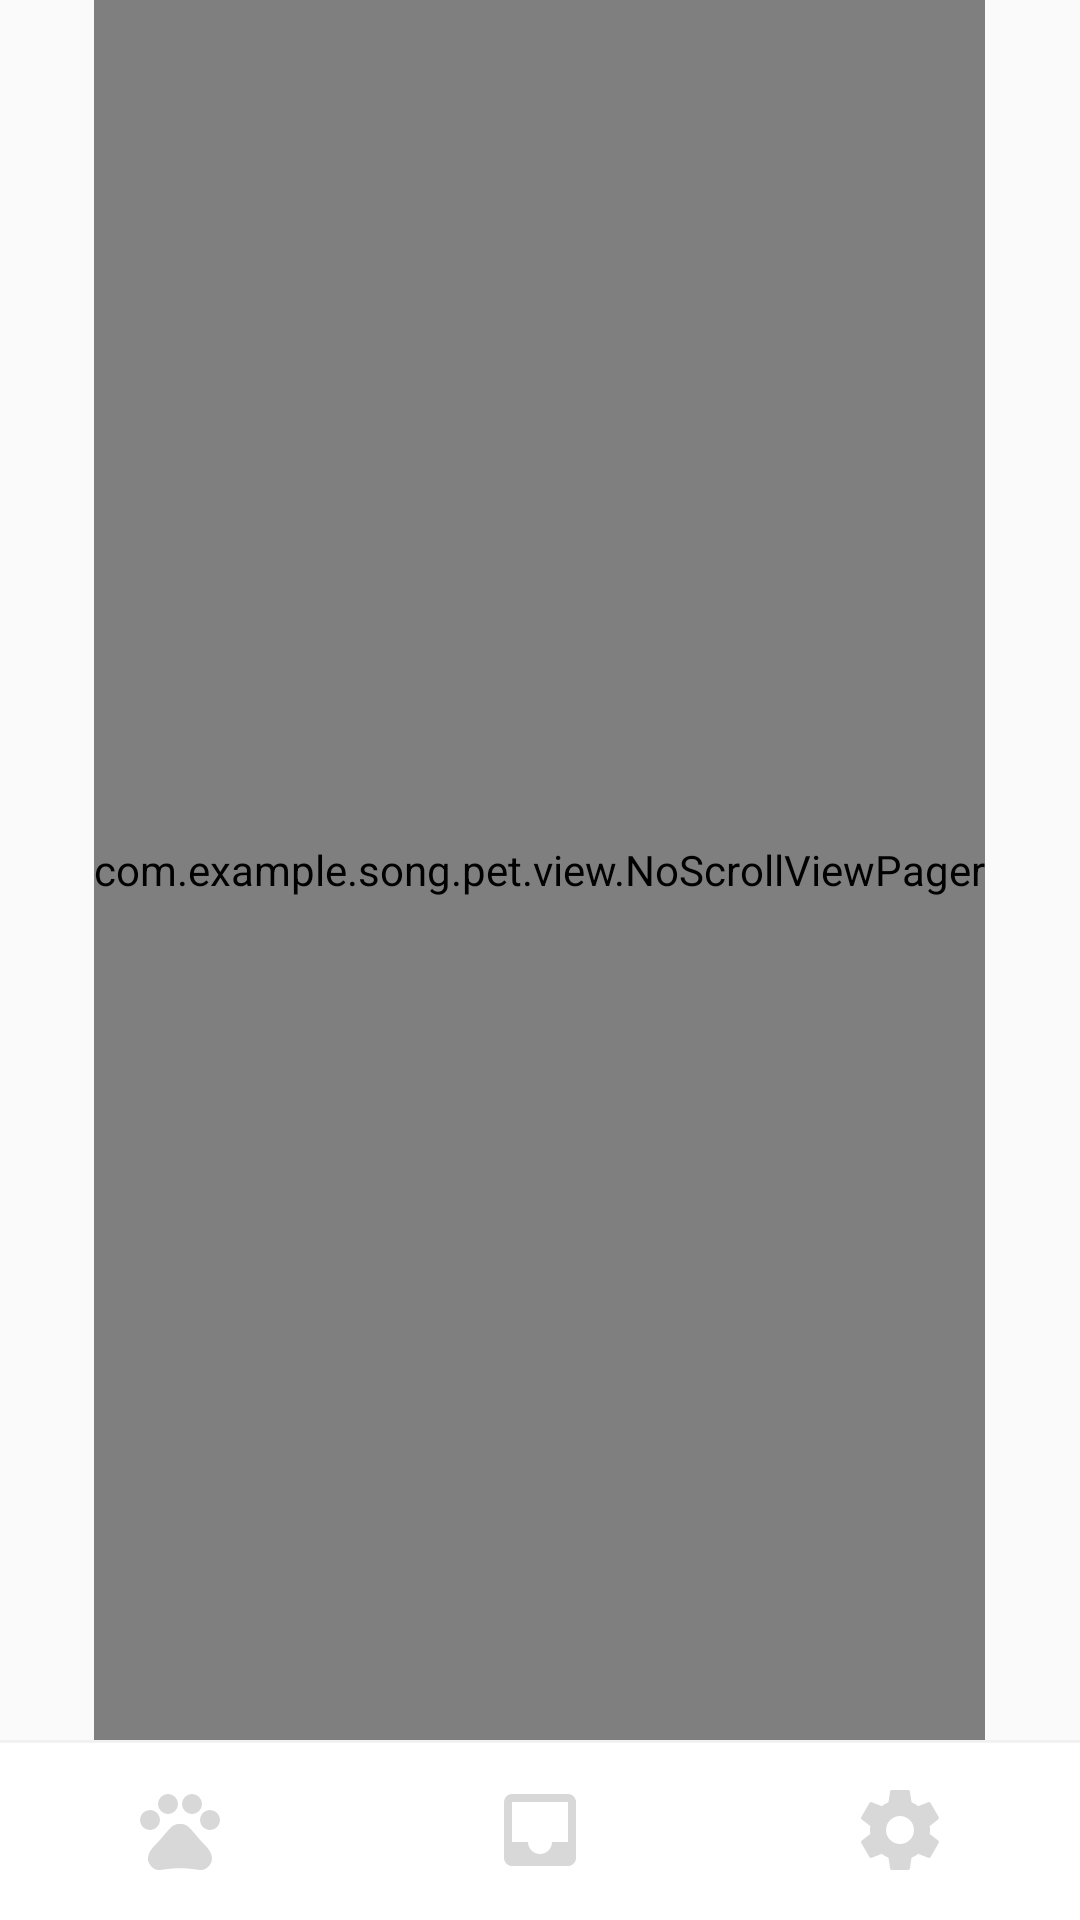

Icon click points for this 1080*1920 phone screenshot, format [x,y]:
setting: [900,1830]
